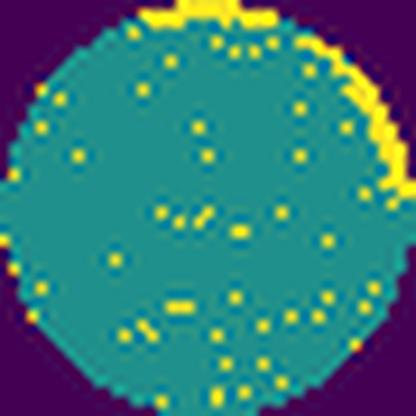Edge-Loc: (295, 31, 416, 210), (136, 0, 278, 33)
